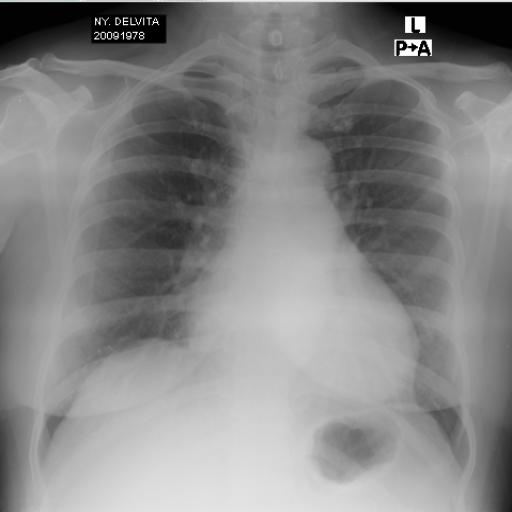kardiomegali: (40, 41, 478, 480)
